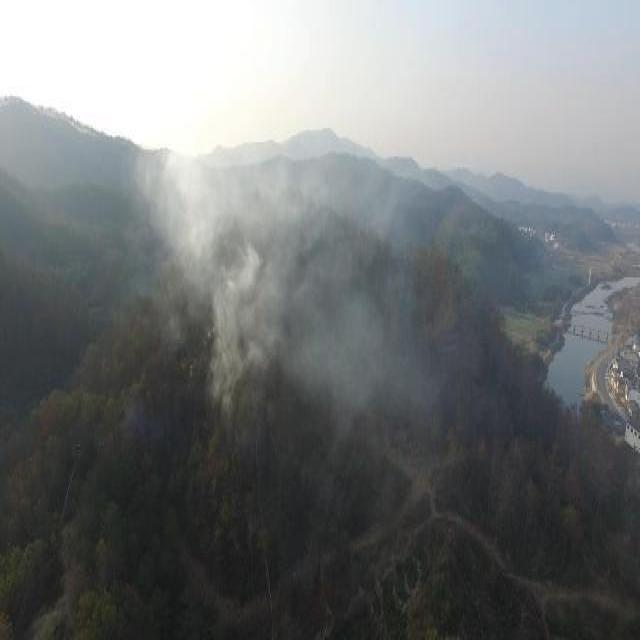Smoke: (132, 122, 445, 442)
